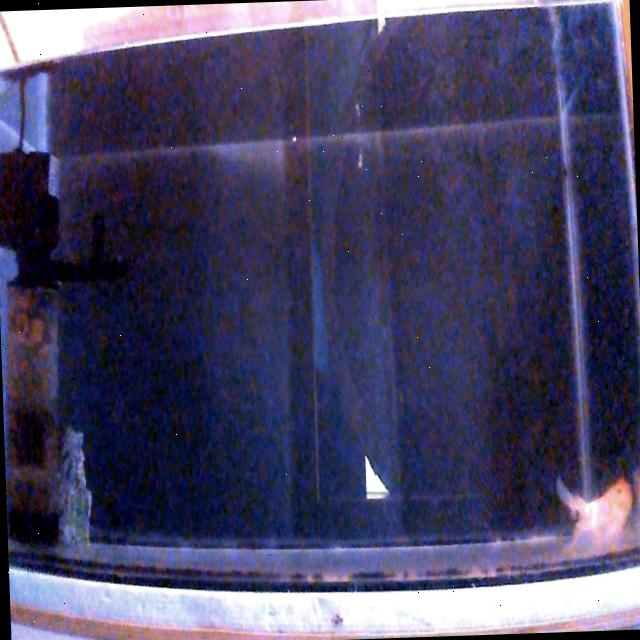fish: (554, 471, 636, 556), (628, 466, 640, 531)
